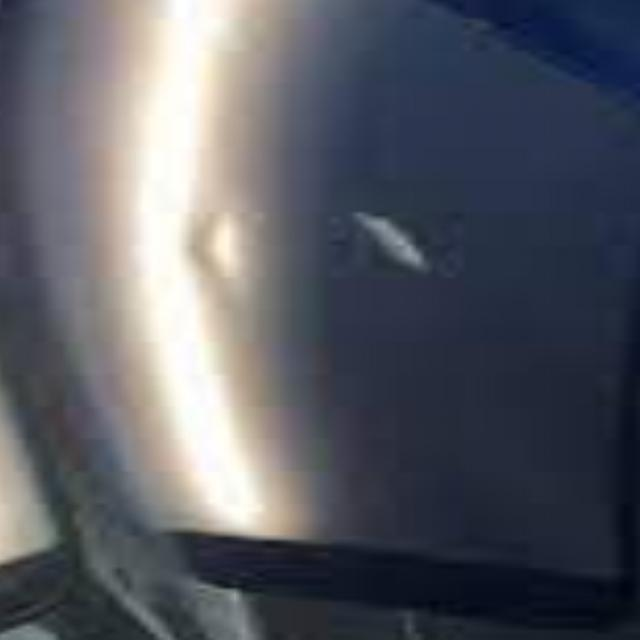dents: (158, 200, 328, 320), (350, 179, 458, 301)
